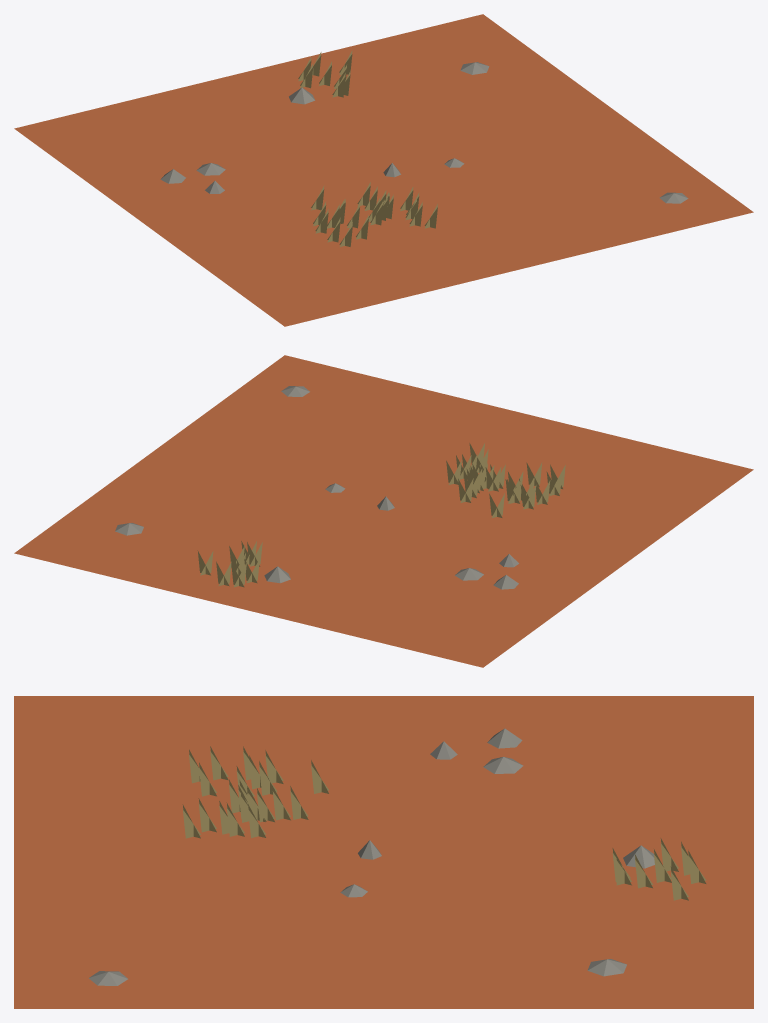
Rendered from terrain.dirt-v0.gltf.
3 renders of one model, top to bottom at view 1: azimuth 30°, elevation 25°; view 2: azimuth 150°, elevation 25°; view 3: azimuth 270°, elevation 25°, orthographic. The views are drawn at different scales.
Visible parts, largest first — view 1: terrain.dirt/ground, terrain.dirt/grass#b7a56c, terrain.dirt/gravel_ballast; view 2: terrain.dirt/ground, terrain.dirt/grass#b7a56c, terrain.dirt/gravel_ballast; view 3: terrain.dirt/ground, terrain.dirt/grass#b7a56c, terrain.dirt/gravel_ballast.
Part boxes in pixels (box(x1,y1,x2,y2)): terrain.dirt/ground: box(14, 14, 753, 326); terrain.dirt/grass#b7a56c: box(298, 50, 437, 246); terrain.dirt/gravel_ballast: box(160, 62, 688, 203); terrain.dirt/ground: box(14, 355, 753, 667); terrain.dirt/grass#b7a56c: box(197, 443, 565, 587); terrain.dirt/gravel_ballast: box(115, 386, 518, 589); terrain.dirt/ground: box(14, 696, 753, 1008); terrain.dirt/grass#b7a56c: box(182, 746, 706, 900); terrain.dirt/gravel_ballast: box(89, 728, 654, 985).
Size of the model in its own units: 10 by 0.45 by 10.
